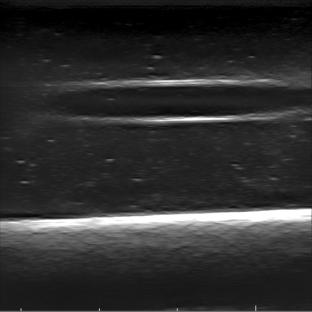vessel: (54, 76, 311, 125)
